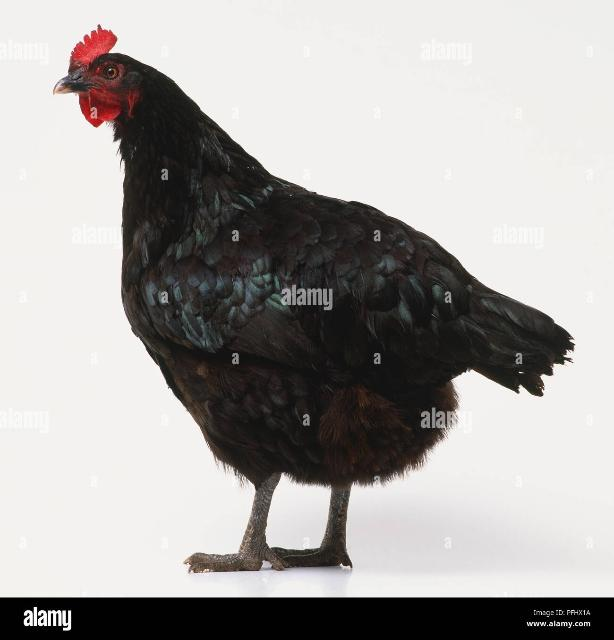Chicken: (52, 23, 573, 573)
